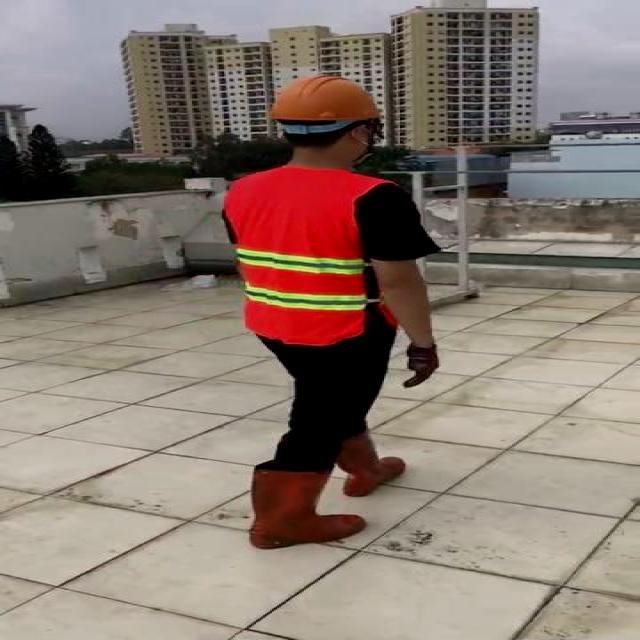boots: (249, 463, 364, 549), (336, 427, 404, 495)
hand_glove: (403, 345, 438, 388)
head_helmet: (266, 72, 381, 121)
person: (207, 69, 447, 552)
vest: (226, 168, 393, 345)
